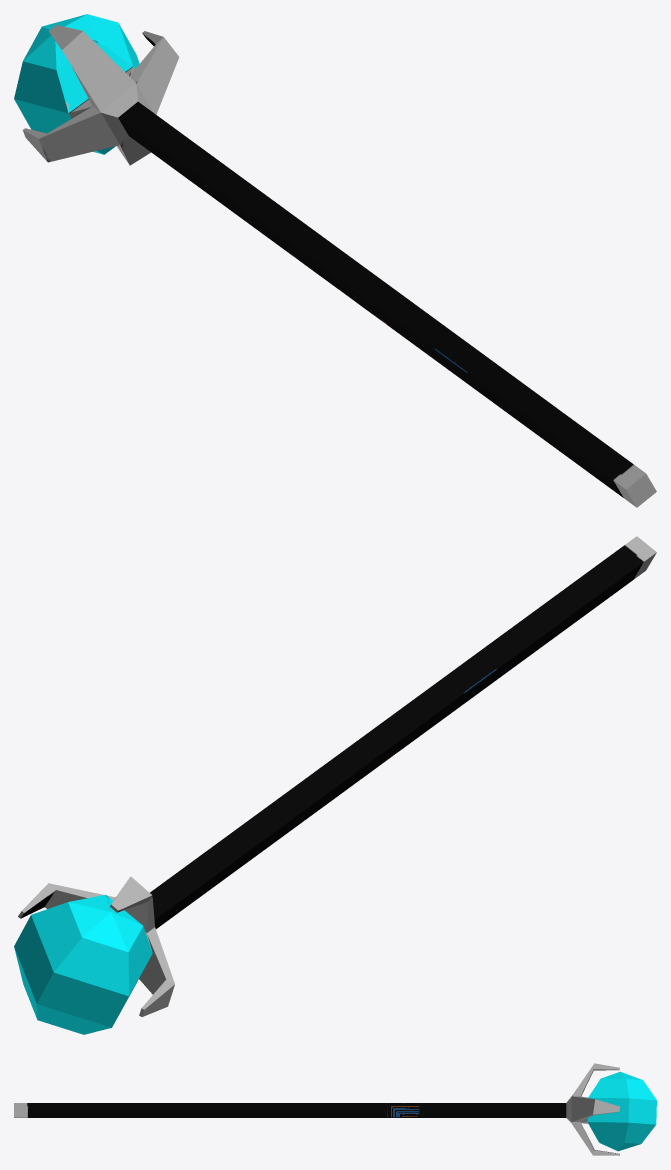
The model's file is Igrus Khasorin Staff.fbx.
3 views of the same model, one above another, from view 1: azimuth 30°, elevation 25°; view 2: azimuth 150°, elevation 25°; view 3: azimuth 270°, elevation 25° (orthographic). The views are drawn at different scales.
Parts seen in each view (by area): view 1: Cube.002; view 2: Cube.002; view 3: Cube.002.
Part boxes in pixels (x1,y1,x2,y2): Cube.002: (14, 14, 656, 507); Cube.002: (14, 536, 656, 1034); Cube.002: (14, 1063, 656, 1155).
Bounding box in the file's own units: 61.6 × 62.02 × 453.
Materials: 1 (1 with a texture image).
